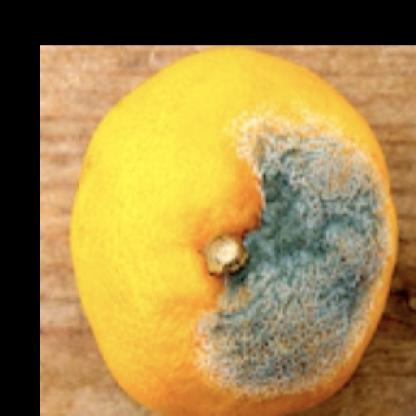rotten: (74, 43, 399, 416)
